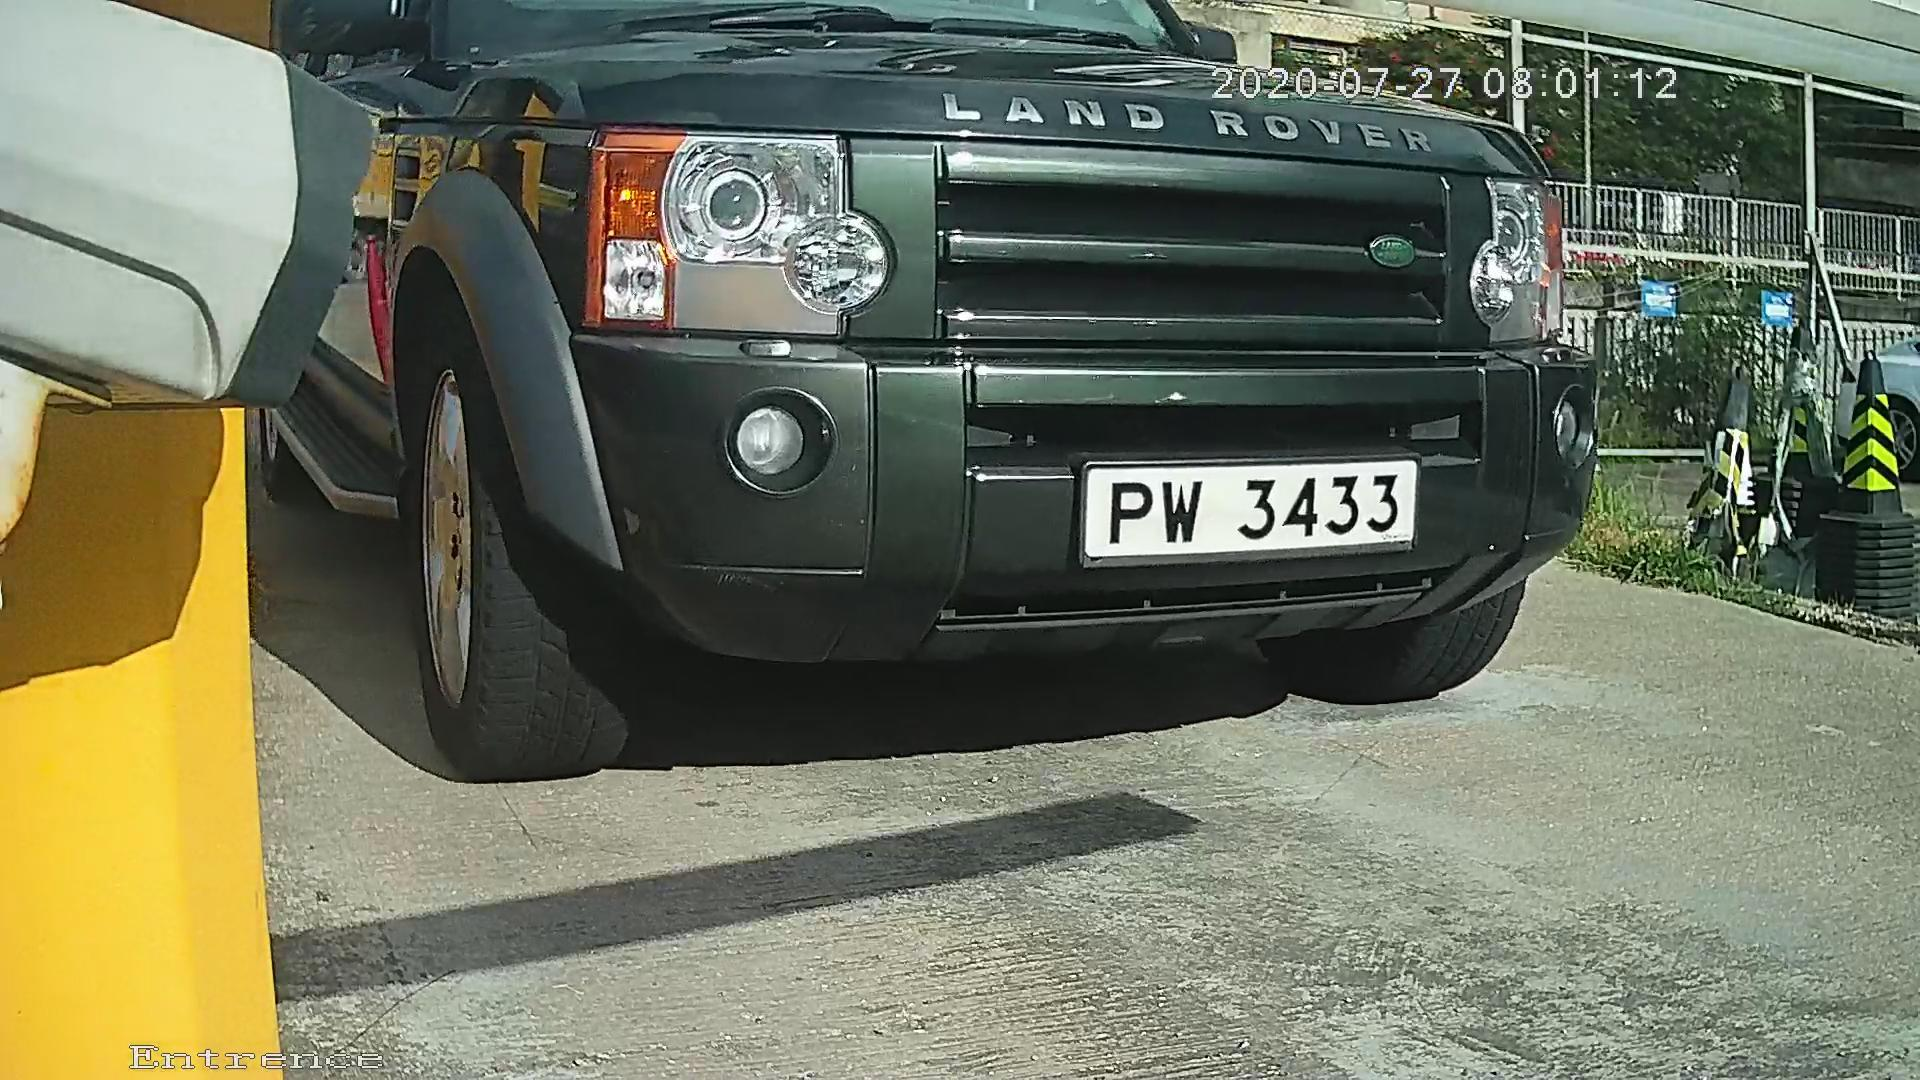Car: (163, 54, 1638, 791)
License Plate: (1072, 449, 1423, 574)
